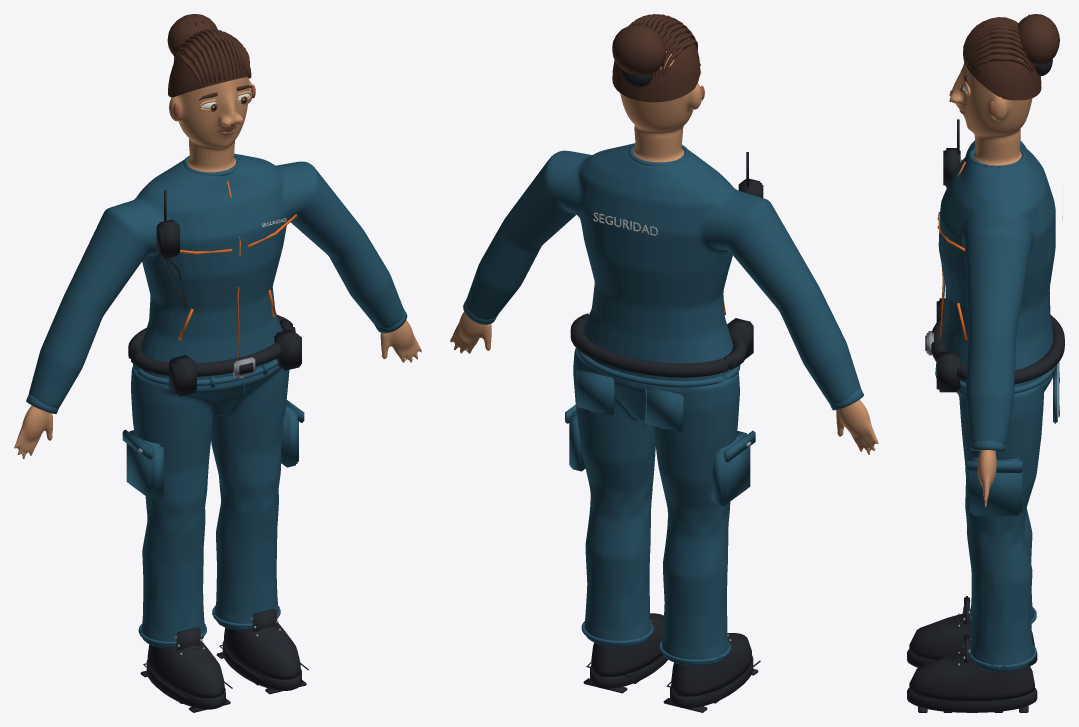
Rendered from NPC2_12_Security_Female.fbx.
The picture shows the model from 3 angles, left to right: view 1: azimuth 30°, elevation 25°; view 2: azimuth 150°, elevation 25°; view 3: azimuth 270°, elevation 25°; orthographic projection. The views are drawn at different scales.
Visible parts, largest first — view 1: Garment_Top_Continuous.013, Trouser_Continuous.013, Skin_12_Security_Female, Shoe_Upper.026, Shoe_Upper.027, Duty_Belt.003, Hair_Cap.013, Cargo_Pocket.012, Duty_Pouch.006, Hair_Bun.002, Cargo_Pocket.013, Duty_Pouch.007 (+4 smaller); view 2: Garment_Top_Continuous.013, Trouser_Continuous.013, Skin_12_Security_Female, Duty_Belt.003, Hair_Cap.013, Shoe_Upper.026, Shoe_Upper.027, Hair_Bun.002, Cargo_Pocket.012, Back_Pocket.026, Back_Pocket.027, Top_Hem.013 (+3 smaller); view 3: Garment_Top_Continuous.013, Trouser_Continuous.013, Skin_12_Security_Female, Shoe_Upper.027, Hair_Cap.013, Cargo_Pocket.013, Shoe_Upper.026, Hair_Bun.002, Duty_Belt.003, Shoe_Sole.027, Duty_Pouch.007, Radio.008 (+12 smaller).
Boxes of the visible parts, bbox=[...] form: Garment_Top_Continuous.013: bbox=[29, 153, 403, 408]; Trouser_Continuous.013: bbox=[131, 364, 289, 647]; Skin_12_Security_Female: bbox=[14, 59, 421, 458]; Shoe_Upper.026: bbox=[147, 641, 224, 698]; Shoe_Upper.027: bbox=[223, 623, 300, 679]; Duty_Belt.003: bbox=[128, 315, 295, 376]; Hair_Cap.013: bbox=[168, 39, 251, 97]; Cargo_Pocket.012: bbox=[126, 430, 163, 500]; Duty_Pouch.006: bbox=[169, 355, 196, 396]; Hair_Bun.002: bbox=[167, 14, 217, 54]; Cargo_Pocket.013: bbox=[281, 405, 298, 467]; Duty_Pouch.007: bbox=[274, 329, 301, 370]; Garment_Top_Continuous.013: bbox=[466, 143, 860, 404]; Trouser_Continuous.013: bbox=[573, 348, 739, 666]; Skin_12_Security_Female: bbox=[450, 51, 878, 454]; Duty_Belt.003: bbox=[570, 312, 746, 377]; Hair_Cap.013: bbox=[612, 24, 700, 102]; Shoe_Upper.026: bbox=[671, 633, 752, 696]; Shoe_Upper.027: bbox=[591, 613, 663, 677]; Hair_Bun.002: bbox=[612, 24, 666, 74]; Cargo_Pocket.012: bbox=[711, 431, 750, 505]; Back_Pocket.026: bbox=[644, 386, 683, 432]; Back_Pocket.027: bbox=[575, 369, 614, 415]; Top_Hem.013: bbox=[577, 349, 740, 387]; Garment_Top_Continuous.013: bbox=[938, 140, 1055, 444]; Trouser_Continuous.013: bbox=[957, 374, 1052, 671]; Skin_12_Security_Female: bbox=[950, 58, 1032, 507]; Shoe_Upper.027: bbox=[909, 652, 1034, 701]; Hair_Cap.013: bbox=[963, 39, 1041, 100]; Cargo_Pocket.013: bbox=[969, 456, 1022, 515]; Shoe_Upper.026: bbox=[909, 613, 1034, 660]; Hair_Bun.002: bbox=[1017, 14, 1059, 66]; Duty_Belt.003: bbox=[931, 315, 1064, 384]; Shoe_Sole.027: bbox=[907, 688, 1037, 712]; Duty_Pouch.007: bbox=[936, 351, 960, 392]; Radio.008: bbox=[943, 148, 960, 188].
Size of the model in its own units: 1.16 by 1.75 by 0.3743.
